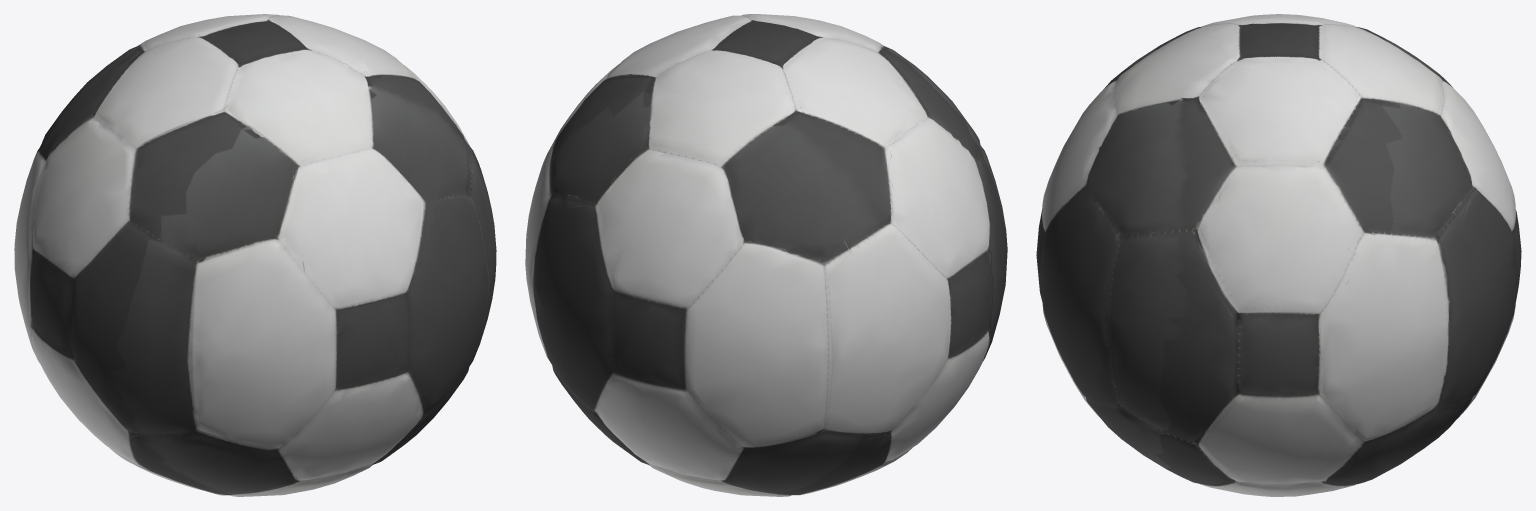
Rendered from Meshy_AI_축구공_0125023717_texture.fbx.
The picture shows the model from 3 angles, left to right: view 1: azimuth 30°, elevation 25°; view 2: azimuth 150°, elevation 25°; view 3: azimuth 270°, elevation 25°; orthographic projection.
Parts seen in each view (by area): view 1: Mesh_0; view 2: Mesh_0; view 3: Mesh_0.
Part boxes in pixels (bbox=[...]): Mesh_0: bbox=[14, 14, 496, 496]; Mesh_0: bbox=[525, 14, 1007, 496]; Mesh_0: bbox=[1036, 14, 1521, 496].
Size of the model in its own units: 191 by 191 by 191.
1 material, 1 textured.
